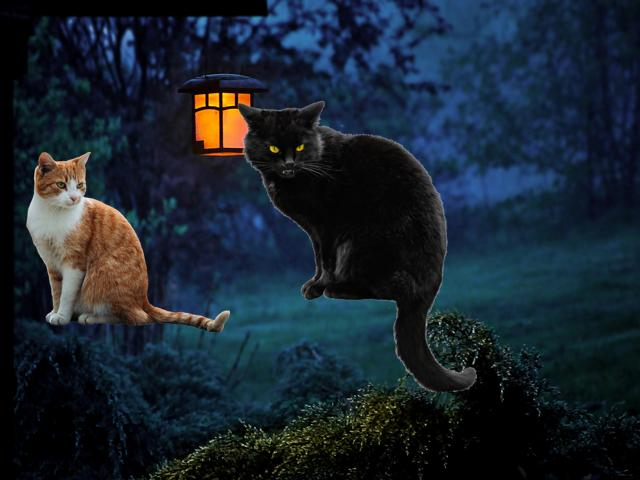cat: (238, 92, 475, 390), (26, 154, 228, 330)
